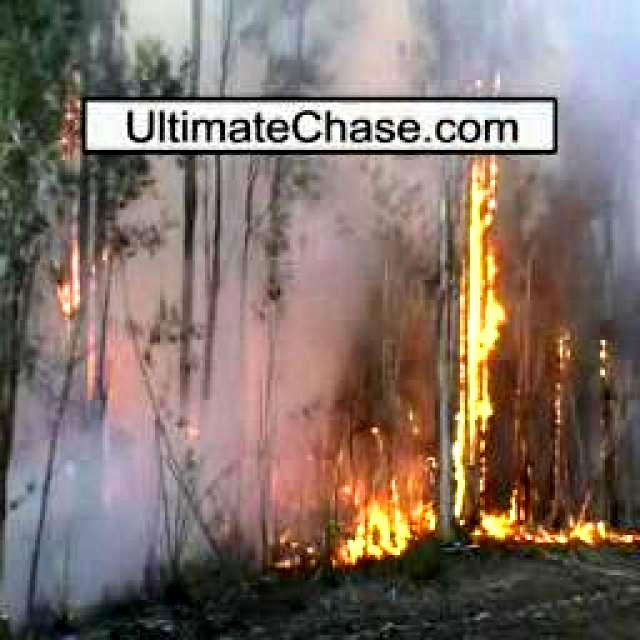helmet: (333, 462, 640, 562), (461, 149, 507, 442), (41, 223, 91, 339), (551, 334, 572, 455), (56, 87, 89, 154)
no_helmet: (44, 154, 640, 555), (79, 0, 632, 95)
